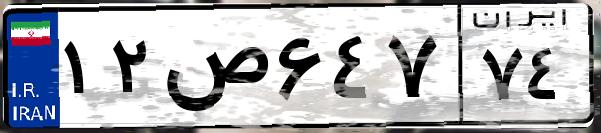1: (57, 26, 110, 100)
2: (110, 28, 158, 98)
4: (330, 28, 385, 110), (525, 38, 570, 115)
6: (270, 28, 330, 110)
7: (385, 28, 445, 110), (475, 38, 525, 113)
ص: (158, 20, 270, 120)
